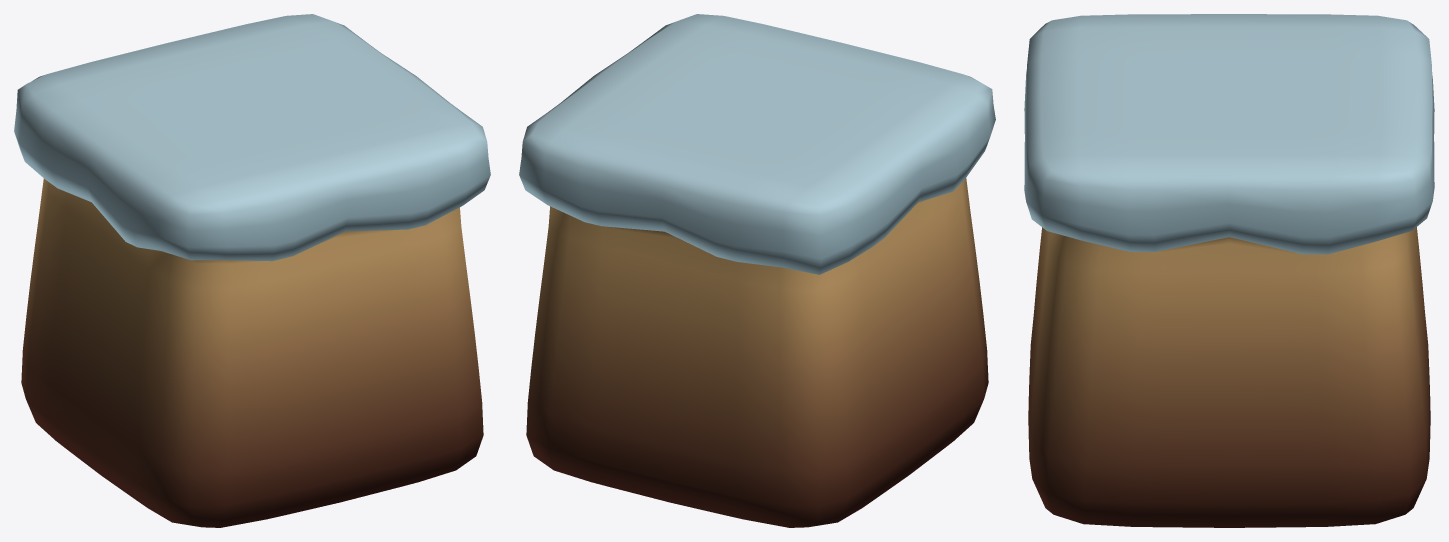
The model's file is TileSnow.fbx.
3 views of the same model, side by side, from view 1: azimuth 30°, elevation 25°; view 2: azimuth 150°, elevation 25°; view 3: azimuth 270°, elevation 25° (orthographic). The views are drawn at different scales.
Visible parts, largest first — view 1: TileSnow; view 2: TileSnow; view 3: TileSnow.
Boxes of the visible parts, x1,y1,x2,y2 form: TileSnow: (14,14,490,527); TileSnow: (519,14,995,527); TileSnow: (1024,14,1434,527).
Bounding box in the file's own units: 2 × 2 × 2.
